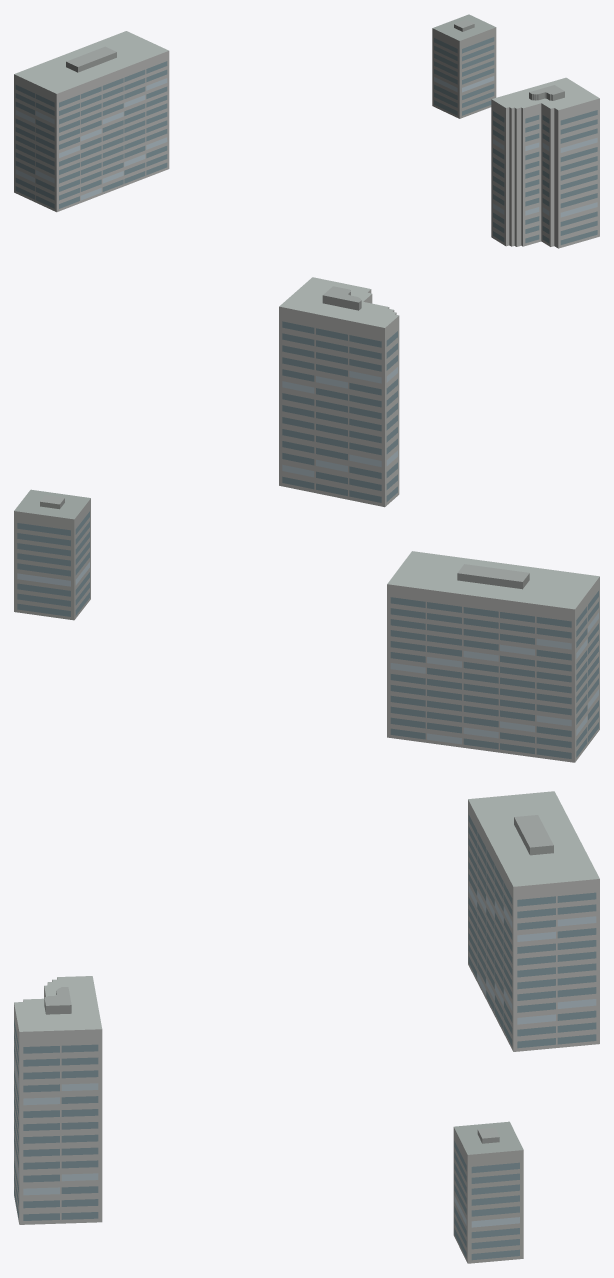
File: apt-a13177701.glb
3 renders of one model, top to bottom at view 1: azimuth 30°, elevation 25°; view 2: azimuth 150°, elevation 25°; view 3: azimuth 270°, elevation 25°, orthographic. The views are drawn at different scales.
Parts seen in each view (by area): view 1: apt-a13177701; view 2: apt-a13177701; view 3: apt-a13177701.
Boxes of the visible parts, x1,y1,x2,y2 form: apt-a13177701: (14, 14, 599, 248); apt-a13177701: (14, 277, 599, 762); apt-a13177701: (14, 791, 599, 1263).
Bounding box in the file's own units: 156 × 47.81 × 126.
